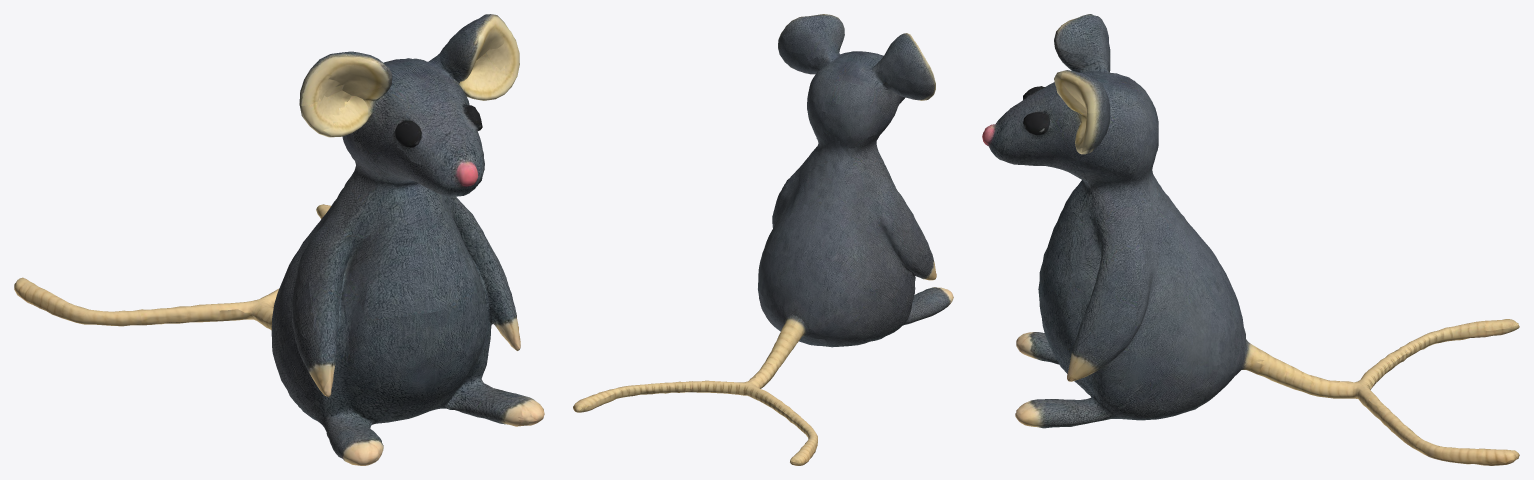
Rendered from meshy-mouse-toy.glb.
3 renders of one model, left to right at view 1: azimuth 30°, elevation 25°; view 2: azimuth 150°, elevation 25°; view 3: azimuth 270°, elevation 25°, orthographic. The views are drawn at different scales.
Bounding box in the file's own units: 1.16 × 1.38 × 1.91.
Materials: 1 (1 with a texture image).
